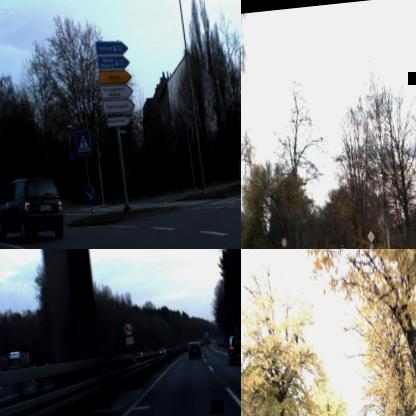keep right: (82, 183, 96, 205)
no overtaking -trucks-: (122, 319, 134, 338)
priority road: (366, 230, 374, 242)
speed limit 70: (280, 236, 287, 247), (367, 241, 374, 249)
